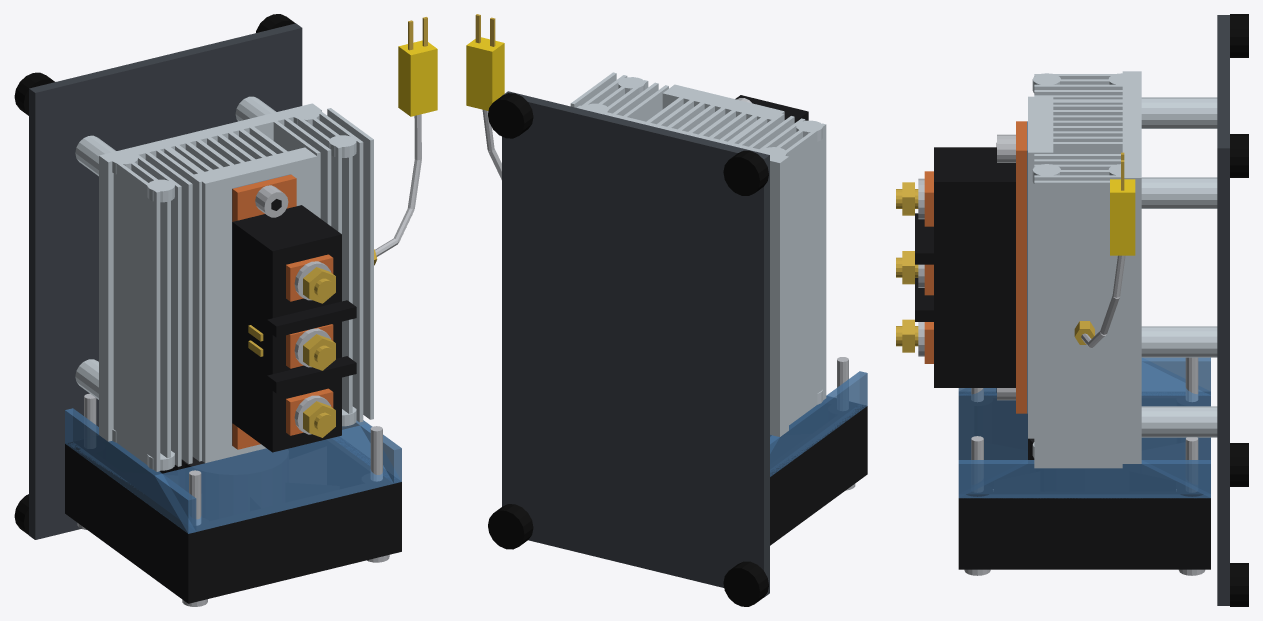
The model's file is Thyristor_MiniChannel_Assembly.obj.
3 renders of one model, left to right at view 1: azimuth 30°, elevation 25°; view 2: azimuth 150°, elevation 25°; view 3: azimuth 270°, elevation 25°, orthographic. The views are drawn at different scales.
Visible parts, largest first — view 1: 01_MiniChannel_HeatSink_Aluminum_6061, 07_Lab_Bench_Baseplate_Bench_Mount_Base, 05_SUNON_Cooling_Fan_Matte_Black_PBT, 03_Thyristor_SCR_TY160D40_Matte_Black_PBT, 04_Airflow_Duct_Shroud_Clear_Air_Shroud, 05_SUNON_Cooling_Fan_Fan_Gloss_Black, 03_Thyristor_SCR_TY160D40_Polished_Copper, 03_Thyristor_SCR_TY160D40_Polished_Brass, 06_Thermocouple_Sensor_Yellow_Connector, 05_SUNON_Cooling_Fan_Stainless_Steel, 07_Lab_Bench_Baseplate_Aluminum_6061, 03_Thyristor_SCR_TY160D40_Stainless_Steel (+2 smaller); view 2: 07_Lab_Bench_Baseplate_Bench_Mount_Base, 01_MiniChannel_HeatSink_Aluminum_6061, 05_SUNON_Cooling_Fan_Matte_Black_PBT, 07_Lab_Bench_Baseplate_Rubber_Feet, 04_Airflow_Duct_Shroud_Clear_Air_Shroud, 06_Thermocouple_Sensor_Yellow_Connector, 05_SUNON_Cooling_Fan_Stainless_Steel, 03_Thyristor_SCR_TY160D40_Matte_Black_PBT; view 3: 01_MiniChannel_HeatSink_Aluminum_6061, 05_SUNON_Cooling_Fan_Matte_Black_PBT, 03_Thyristor_SCR_TY160D40_Matte_Black_PBT, 04_Airflow_Duct_Shroud_Clear_Air_Shroud, 07_Lab_Bench_Baseplate_Aluminum_6061, 07_Lab_Bench_Baseplate_Bench_Mount_Base, 05_SUNON_Cooling_Fan_Fan_Gloss_Black, 03_Thyristor_SCR_TY160D40_Polished_Copper, 07_Lab_Bench_Baseplate_Rubber_Feet, 05_SUNON_Cooling_Fan_Stainless_Steel, 06_Thermocouple_Sensor_Yellow_Connector, 03_Thyristor_SCR_TY160D40_Polished_Brass (+3 smaller).
Part boxes in pixels (<box>): 01_MiniChannel_HeatSink_Aluminum_6061: <box>99,103,373,471</box>; 07_Lab_Bench_Baseplate_Bench_Mount_Base: <box>29,23,302,539</box>; 05_SUNON_Cooling_Fan_Matte_Black_PBT: <box>65,436,401,603</box>; 03_Thyristor_SCR_TY160D40_Matte_Black_PBT: <box>232,199,356,452</box>; 04_Airflow_Duct_Shroud_Clear_Air_Shroud: <box>65,408,401,533</box>; 05_SUNON_Cooling_Fan_Fan_Gloss_Black: <box>124,446,339,520</box>; 03_Thyristor_SCR_TY160D40_Polished_Copper: <box>232,174,333,449</box>; 03_Thyristor_SCR_TY160D40_Polished_Brass: <box>248,267,335,437</box>; 06_Thermocouple_Sensor_Yellow_Connector: <box>398,40,437,116</box>; 05_SUNON_Cooling_Fan_Stainless_Steel: <box>77,393,389,606</box>; 07_Lab_Bench_Baseplate_Aluminum_6061: <box>75,96,276,399</box>; 03_Thyristor_SCR_TY160D40_Stainless_Steel: <box>255,185,331,434</box>; 07_Lab_Bench_Baseplate_Bench_Mount_Base: <box>502,91,769,597</box>; 01_MiniChannel_HeatSink_Aluminum_6061: <box>570,72,826,436</box>; 05_SUNON_Cooling_Fan_Matte_Black_PBT: <box>770,397,867,545</box>; 07_Lab_Bench_Baseplate_Rubber_Feet: <box>488,93,768,606</box>; 04_Airflow_Duct_Shroud_Clear_Air_Shroud: <box>770,371,867,476</box>; 06_Thermocouple_Sensor_Yellow_Connector: <box>466,37,504,110</box>; 05_SUNON_Cooling_Fan_Stainless_Steel: <box>837,357,855,490</box>; 03_Thyristor_SCR_TY160D40_Matte_Black_PBT: <box>735,95,808,122</box>; 01_MiniChannel_HeatSink_Aluminum_6061: <box>1028,71,1141,468</box>; 05_SUNON_Cooling_Fan_Matte_Black_PBT: <box>958,395,1210,569</box>; 03_Thyristor_SCR_TY160D40_Matte_Black_PBT: <box>915,143,1015,392</box>; 04_Airflow_Duct_Shroud_Clear_Air_Shroud: <box>958,357,1210,498</box>; 07_Lab_Bench_Baseplate_Aluminum_6061: <box>1141,97,1217,437</box>; 07_Lab_Bench_Baseplate_Bench_Mount_Base: <box>1217,15,1229,605</box>; 05_SUNON_Cooling_Fan_Fan_Gloss_Black: <box>984,438,1185,490</box>; 03_Thyristor_SCR_TY160D40_Polished_Copper: <box>924,121,1026,413</box>; 07_Lab_Bench_Baseplate_Rubber_Feet: <box>1230,14,1248,606</box>; 05_SUNON_Cooling_Fan_Stainless_Steel: <box>964,357,1205,575</box>; 06_Thermocouple_Sensor_Yellow_Connector: <box>1110,179,1135,255</box>; 03_Thyristor_SCR_TY160D40_Polished_Brass: <box>896,182,918,352</box>.
Size of the model in its own units: 133 by 171 by 112.
